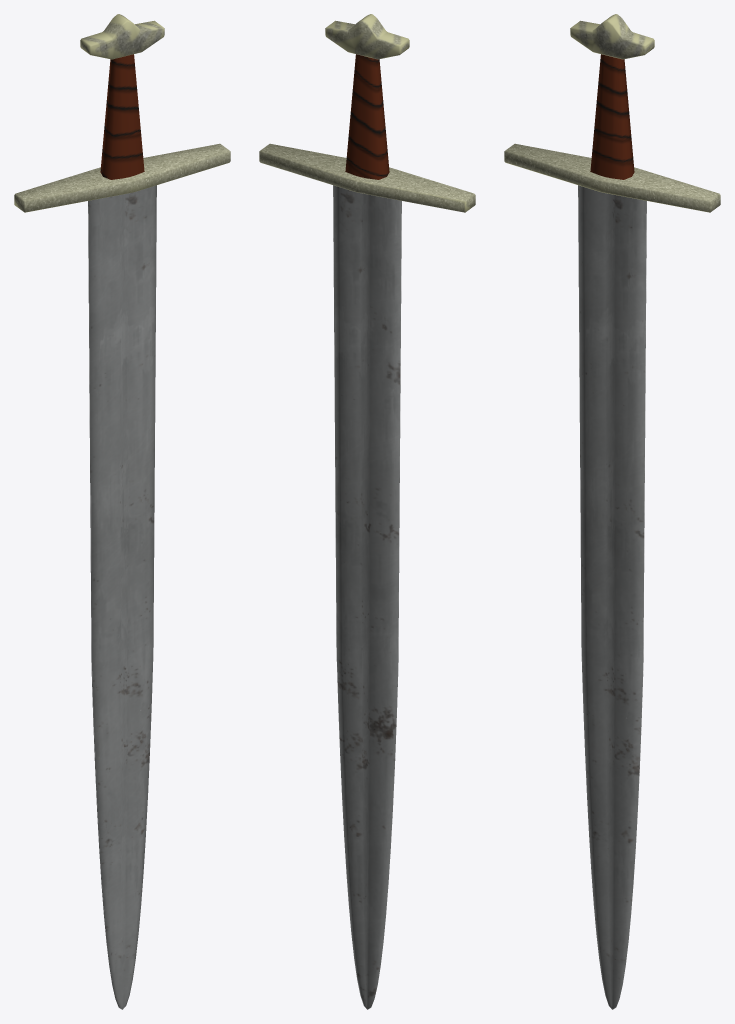
File: Sword.fbx
3 views of the same model, side by side, from view 1: azimuth 30°, elevation 25°; view 2: azimuth 150°, elevation 25°; view 3: azimuth 330°, elevation 25° (orthographic).
Visible parts, largest first — view 1: Sword_LOD0; view 2: Sword_LOD0; view 3: Sword_LOD0.
Boxes of the visible parts, x1,y1,x2,y2 form: Sword_LOD0: (14,14,230,1009); Sword_LOD0: (259,14,475,1009); Sword_LOD0: (504,14,720,1009).
Size of what is drawn, in the model's own units: 14.79 by 67.77 by 2.88.
